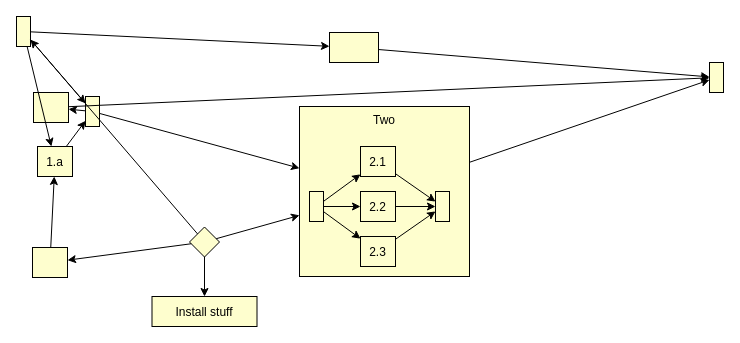
Some shapes in this 740 by 343 pixel diagram are drawn without their labels. Here are the shapes that lost their labels. From the top down, the centre of each, then its label:
At (x=353, y=47): "Three".
At (x=50, y=107): "1.b".
At (x=50, y=262): "One".
